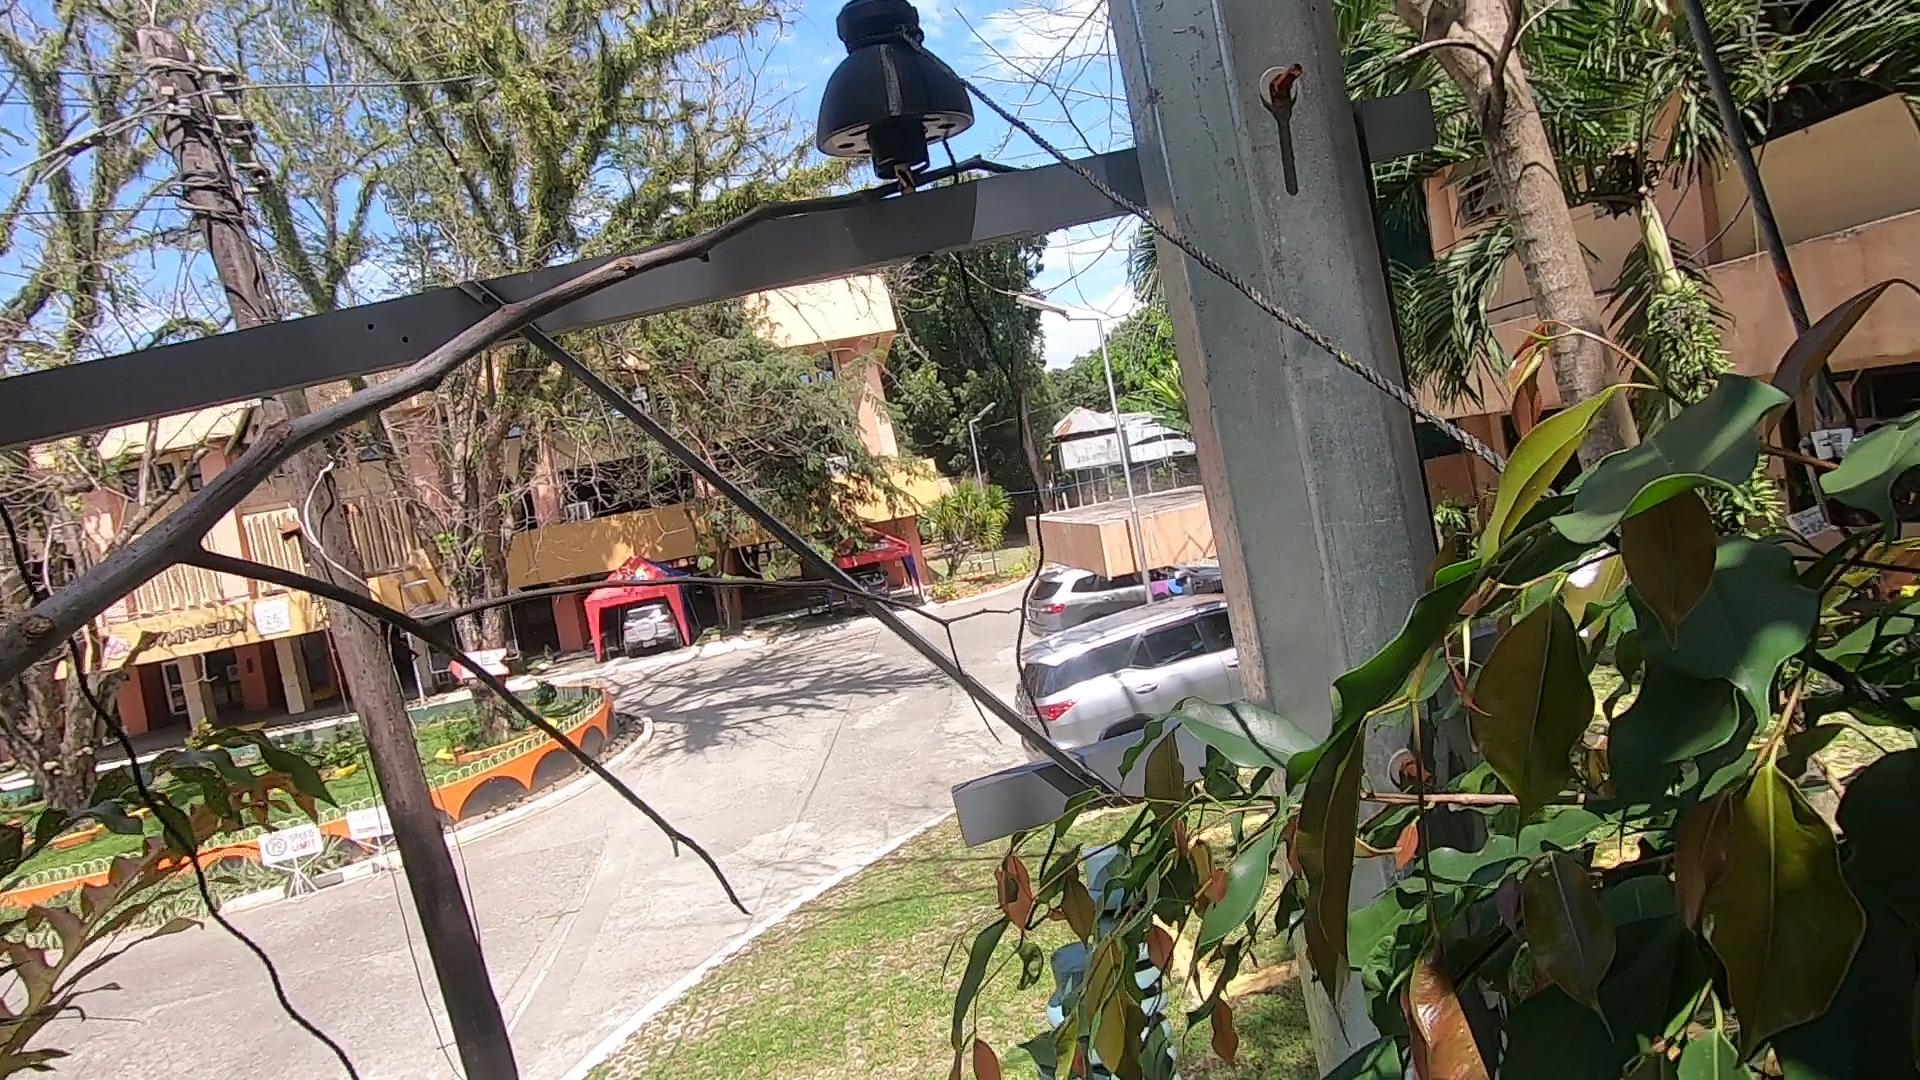branch with leaves: (847, 553, 1323, 1080)
tree branch: (1, 82, 1135, 667)
